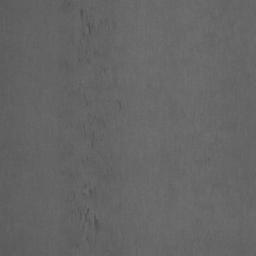Silk spot: (72, 207, 100, 234), (82, 22, 94, 42), (82, 187, 96, 198), (88, 132, 97, 148), (62, 0, 73, 12), (80, 8, 88, 21)
